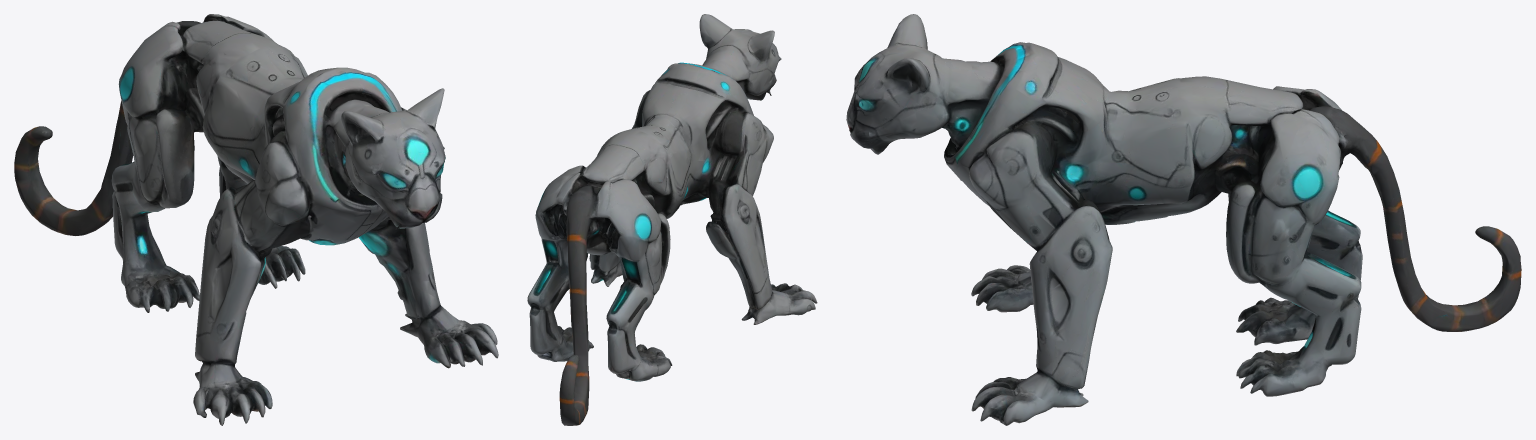
The model's file is apex-criatura-bestia.glb.
3 views of the same model, side by side, from view 1: azimuth 30°, elevation 25°; view 2: azimuth 150°, elevation 25°; view 3: azimuth 270°, elevation 25° (orthographic). The views are drawn at different scales.
Size of the model in its own units: 1.03 by 1.06 by 2.
Materials: 1 (1 with a texture image).
